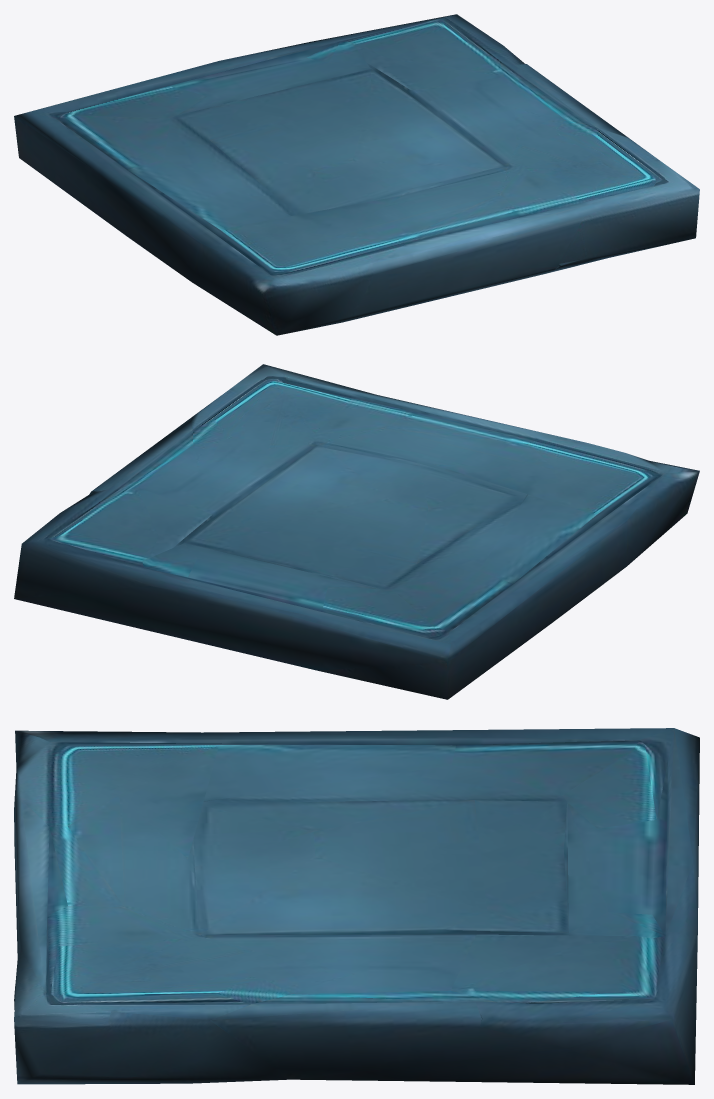
The model's file is sol_dalle.glb.
3 views of the same model, one above another, from view 1: azimuth 30°, elevation 25°; view 2: azimuth 150°, elevation 25°; view 3: azimuth 270°, elevation 25° (orthographic). The views are drawn at different scales.
Parts seen in each view (by area): view 1: tripo_node_7d9ef52b-574c-436e-becd-55298159920e; view 2: tripo_node_7d9ef52b-574c-436e-becd-55298159920e; view 3: tripo_node_7d9ef52b-574c-436e-becd-55298159920e.
Part boxes in pixels (<box>): tripo_node_7d9ef52b-574c-436e-becd-55298159920e: <box>14,14,699,335</box>; tripo_node_7d9ef52b-574c-436e-becd-55298159920e: <box>14,364,699,699</box>; tripo_node_7d9ef52b-574c-436e-becd-55298159920e: <box>14,728,699,1084</box>.
Size of the model in its own units: 1 by 0.1266 by 0.9987.
Materials: 1 (1 with a texture image).
